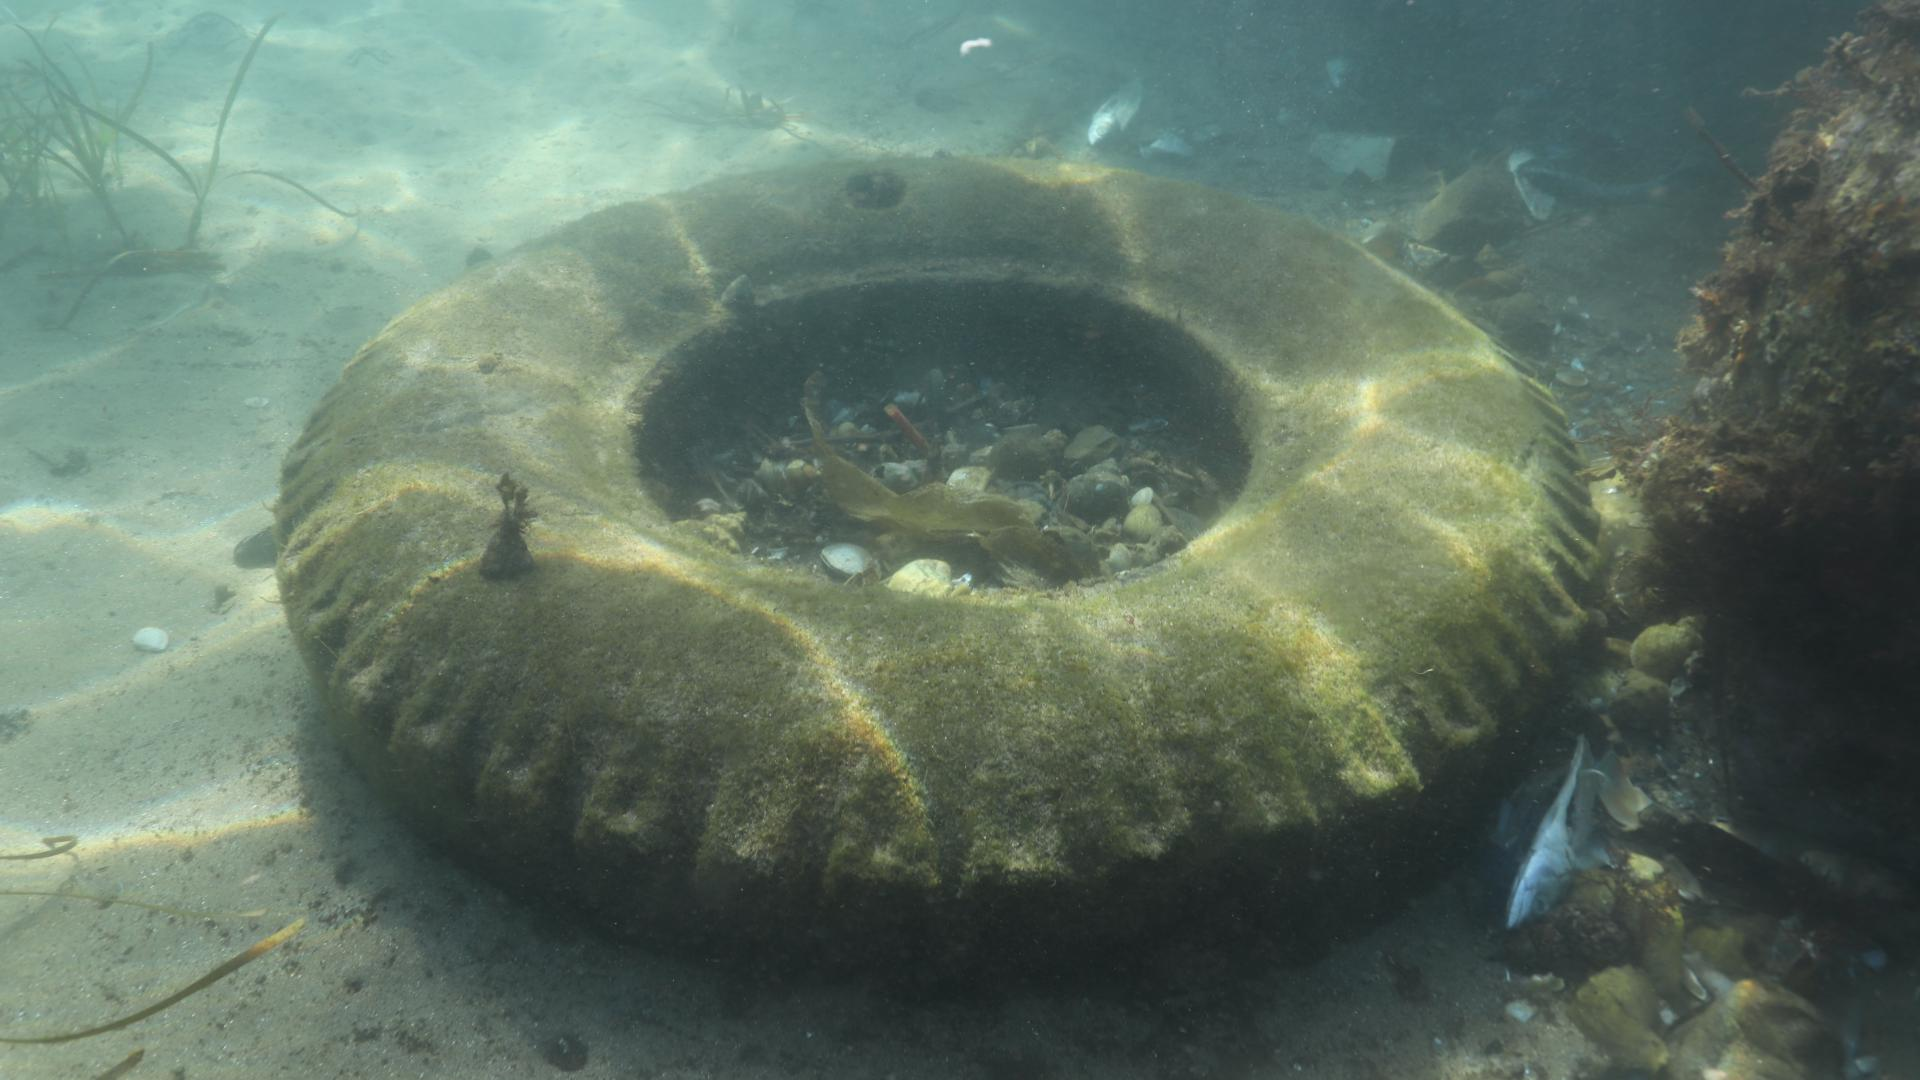tire: (272, 154, 1601, 997)
